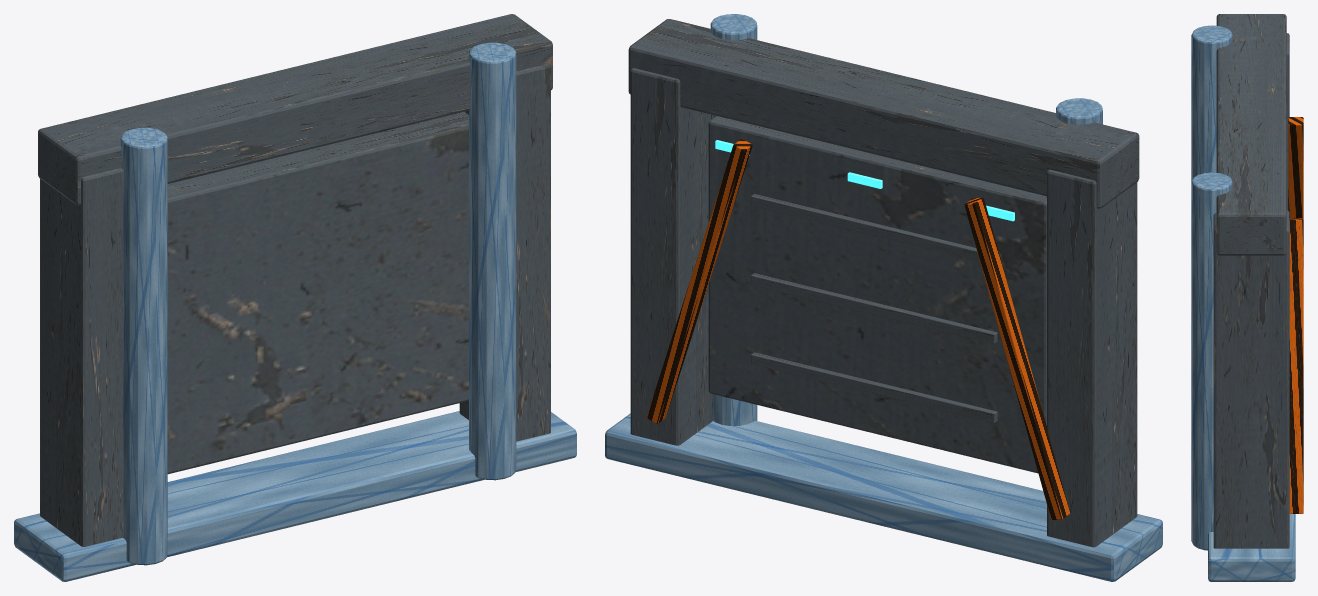
The model's file is cryo_bulkhead.glb.
3 views of the same model, side by side, from view 1: azimuth 30°, elevation 25°; view 2: azimuth 150°, elevation 25°; view 3: azimuth 270°, elevation 25° (orthographic). The views are drawn at different scales.
Parts seen in each view (by area): view 1: BulkheadCore, BulkheadCrossbar, BulkheadFoot, BulkheadPillar_-2.75, BulkheadPipe_2.75, BulkheadPipe_-2.75, BulkheadPillar_2.75; view 2: BulkheadCore, BulkheadCrossbar, BulkheadFoot, BulkheadPillar_-2.75, BulkheadPillar_2.75, BulkheadBrace_-2.1, BulkheadBrace_2.1, BulkheadVent_1.55, BulkheadVent_2.55, BulkheadVent_3.55, BulkheadPipe_2.75, BulkheadPipe_-2.75; view 3: BulkheadPillar_2.75, BulkheadCrossbar, BulkheadPipe_2.75, BulkheadBrace_2.1, BulkheadPipe_-2.75, BulkheadFoot, BulkheadBrace_-2.1, BulkheadPillar_-2.75.
Part boxes in pixels (left/top/right/bottom): BulkheadCore: left=167, top=111, right=468, bottom=474; BulkheadCrossbar: left=38, top=14, right=552, bottom=205; BulkheadFoot: left=14, top=411, right=576, bottom=581; BulkheadPillar_-2.75: left=40, top=167, right=122, bottom=546; BulkheadPipe_2.75: left=469, top=42, right=516, bottom=480; BulkheadPipe_-2.75: left=120, top=127, right=167, bottom=565; BulkheadPillar_2.75: left=459, top=63, right=550, bottom=441; BulkheadCore: left=708, top=115, right=1046, bottom=473; BulkheadCrossbar: left=628, top=19, right=1139, bottom=208; BulkheadFoot: left=605, top=413, right=1162, bottom=581; BulkheadPillar_-2.75: left=1047, top=169, right=1137, bottom=547; BulkheadPillar_2.75: left=630, top=68, right=713, bottom=445; BulkheadBrace_-2.1: left=964, top=197, right=1070, bottom=520; BulkheadBrace_2.1: left=646, top=138, right=752, bottom=423; BulkheadVent_1.55: left=751, top=352, right=997, bottom=423; BulkheadVent_2.55: left=751, top=273, right=997, bottom=343; BulkheadVent_3.55: left=751, top=194, right=979, bottom=261; BulkheadPipe_2.75: left=710, top=14, right=757, bottom=425; BulkheadPipe_-2.75: left=1056, top=98, right=1102, bottom=124; BulkheadPillar_2.75: left=1213, top=210, right=1289, bottom=548; BulkheadCrossbar: left=1216, top=14, right=1286, bottom=255; BulkheadPipe_2.75: left=1191, top=172, right=1232, bottom=550; BulkheadBrace_2.1: left=1289, top=218, right=1303, bottom=513; BulkheadPipe_-2.75: left=1191, top=25, right=1232, bottom=181; BulkheadFoot: left=1208, top=514, right=1295, bottom=581; BulkheadBrace_-2.1: left=1288, top=117, right=1303, bottom=218; BulkheadPillar_-2.75: left=1286, top=33, right=1289, bottom=210.
Size of the model in its own units: 6.75 by 5.33 by 1.47.
Materials: 6 (6 with a texture image).
